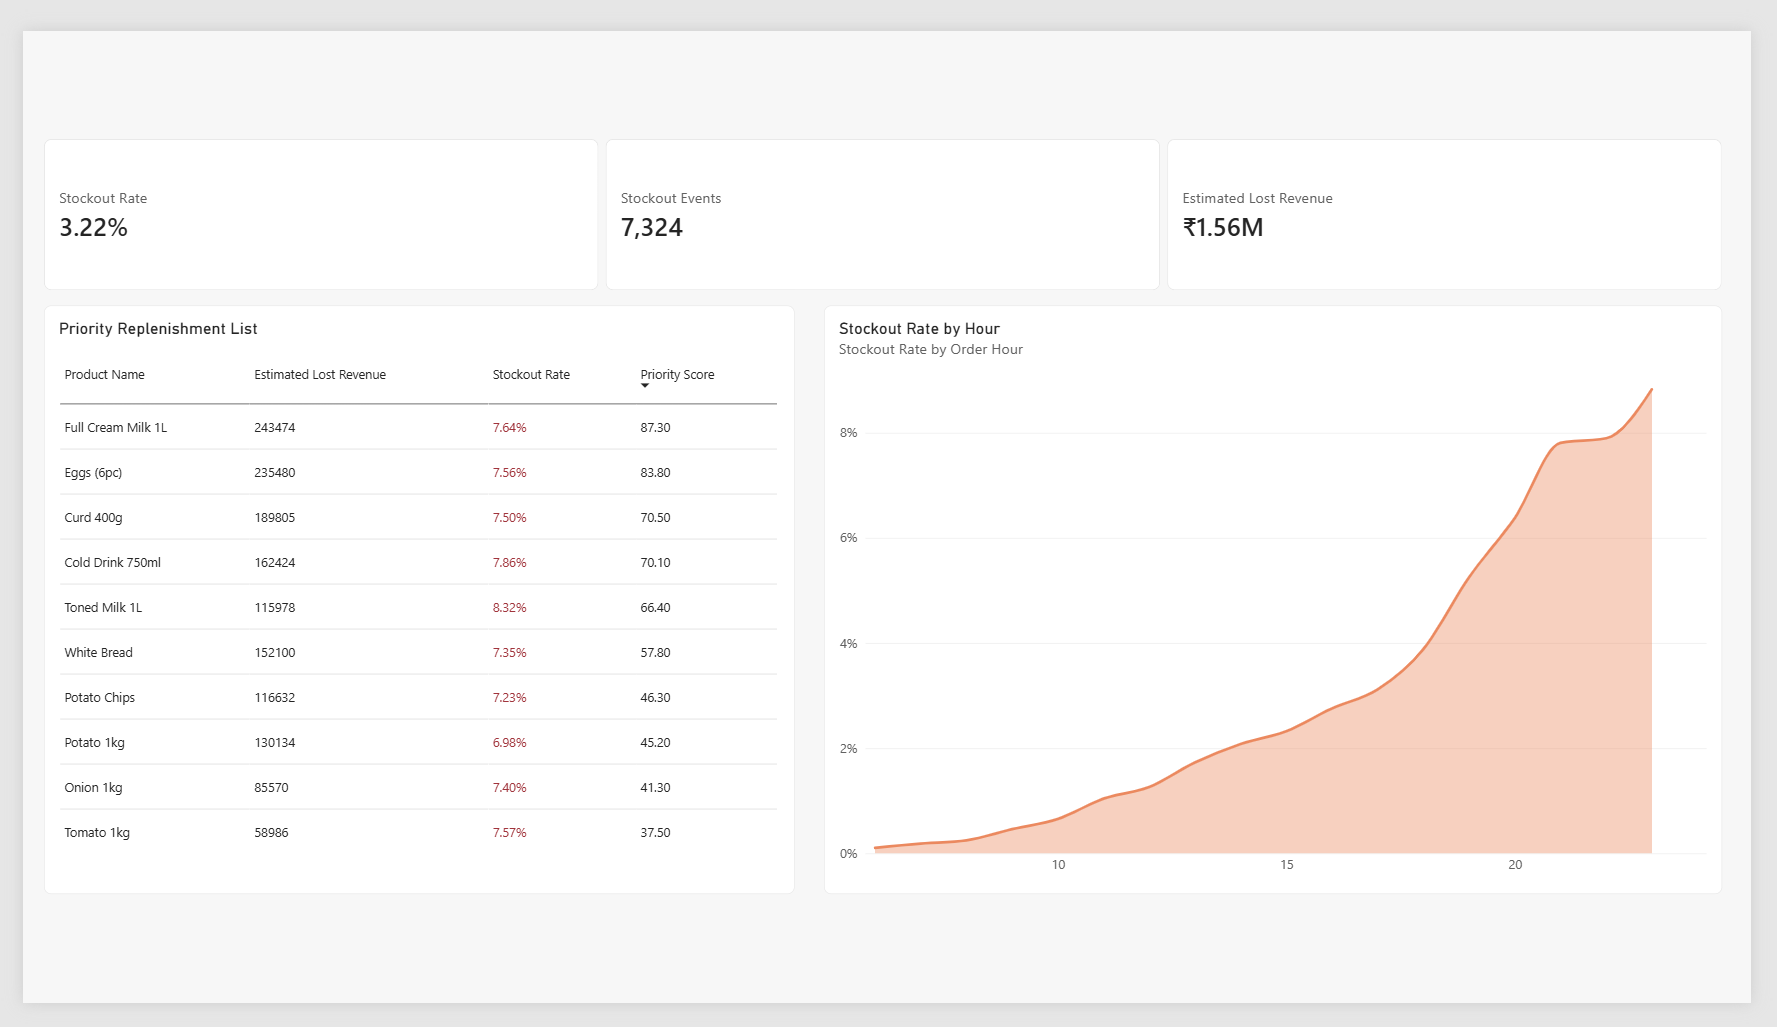

What the dashboard file says about the page in this screenshot:
{"tool":"powerbi","page":{"name":"Inventory and lost revenue","canvas":[1920,1080],"ordinal":2},"visuals":[{"type":"cardVisual","fields":{"Data":["order_items.Stockout Rate","order_items.Stockout Events","order_items.Estimated Lost Revenue"]},"box":[23.2,119.3,1864,168],"z":0},{"type":"tableEx","title":"Priority Replenishment List","fields":{"Values":["products.product_name","order_items.Estimated Lost Revenue","order_items.Stockout Rate","order_items.Priority Score"]},"box":[23.2,305.3,834,654],"z":1000},{"type":"lineChart","title":"Stockout Rate by Hour","fields":{"Category":["orders.Order Hour"],"Y":["order_items.Stockout Rate"]},"box":[889.2,305.3,998,654],"z":2000}]}

Visuals, with their boxes in screenshot pixels (x1, y1, x2, y2), scaled from the page's 1920x1080 canvas onto the 1777x1027 screenshot:
cardVisual - order_items.Stockout Rate x order_items.Stockout Events: <region>21, 113, 1747, 273</region>
"Priority Replenishment List" tableEx: <region>21, 290, 793, 912</region>
"Stockout Rate by Hour" lineChart: <region>823, 290, 1747, 912</region>
